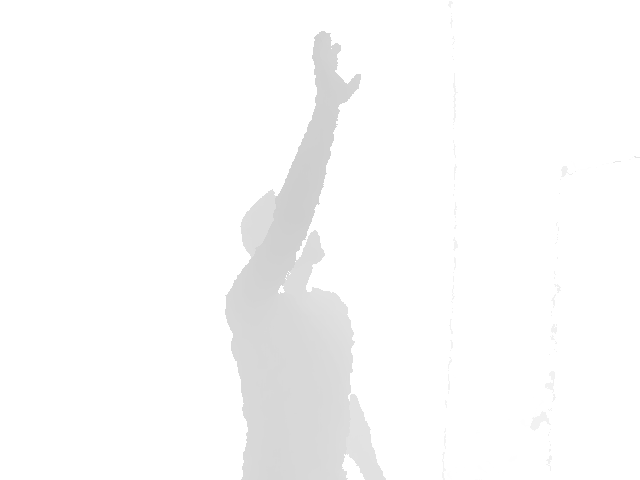hand: (311, 29, 363, 107)
head: (239, 188, 327, 266)
person: (224, 29, 388, 480)
